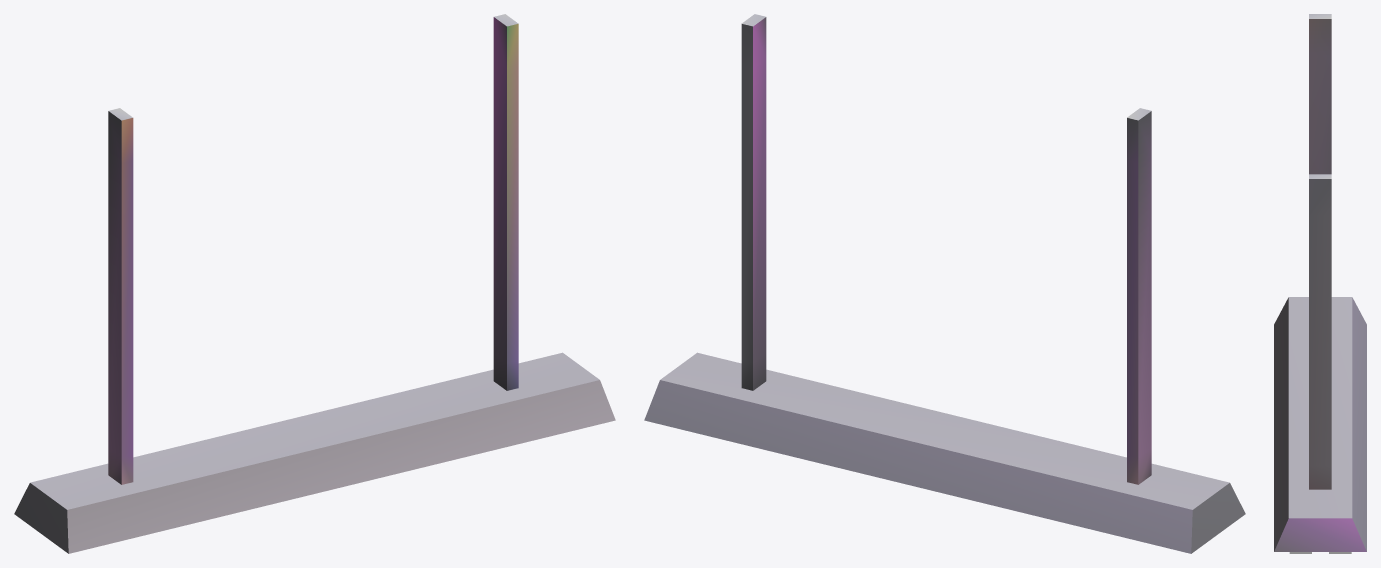
The model's file is flourecent_hanging_fixture.FBX.
3 renders of one model, left to right at view 1: azimuth 30°, elevation 25°; view 2: azimuth 150°, elevation 25°; view 3: azimuth 270°, elevation 25°, orthographic. The views are drawn at different scales.
Visible parts, largest first — view 1: hanging fluorecent lamp; view 2: hanging fluorecent lamp; view 3: hanging fluorecent lamp.
Part boxes in pixels (x1,y1,x2,y2): hanging fluorecent lamp: (14,14,615,553); hanging fluorecent lamp: (644,14,1245,553); hanging fluorecent lamp: (1274,14,1366,553).
Size of the model in its own units: 0.9705 by 0.6995 by 0.1676.
